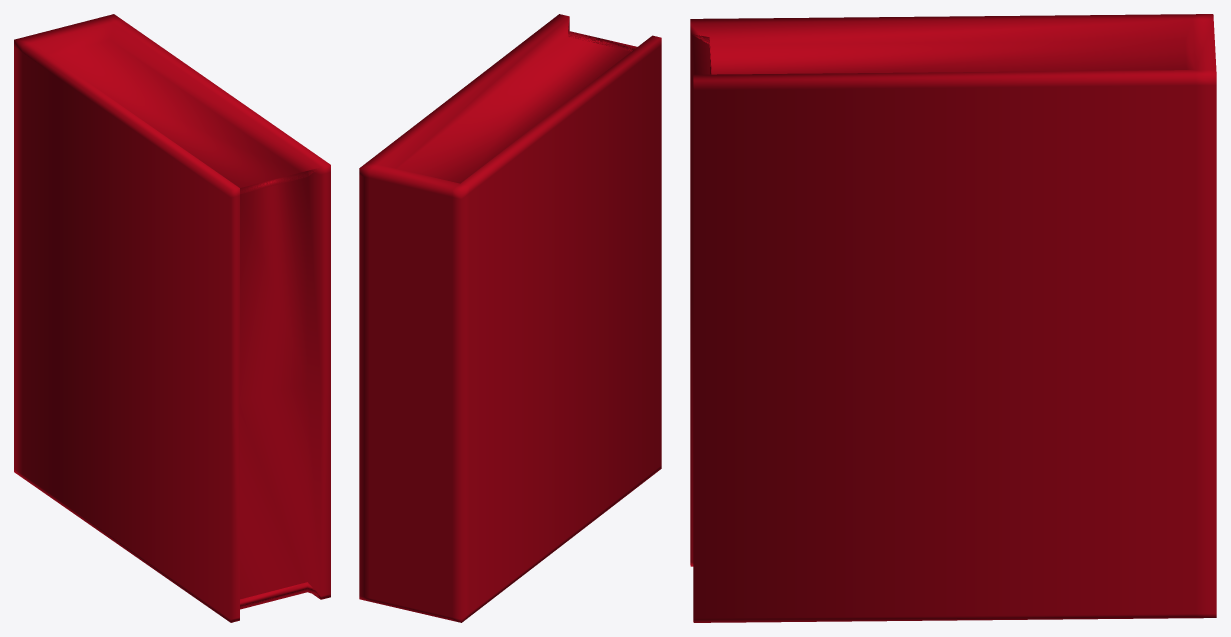
The model's file is Book_6.fbx.
The picture shows the model from 3 angles, left to right: view 1: azimuth 30°, elevation 25°; view 2: azimuth 150°, elevation 25°; view 3: azimuth 270°, elevation 25°; orthographic projection. The views are drawn at different scales.
Visible parts, largest first — view 1: Book-6; view 2: Book-6; view 3: Book-6.
Part boxes in pixels (x1,y1,x2,y2): Book-6: [14, 14, 330, 622]; Book-6: [359, 14, 661, 622]; Book-6: [690, 14, 1216, 622].
Bounding box in the file's own units: 10.72 × 40.5 × 35.65.
